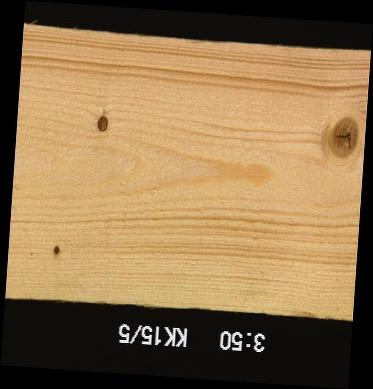dry_knot: (96, 113, 109, 133)
small_knot: (51, 243, 61, 256)
sound_knot: (328, 116, 359, 159)
